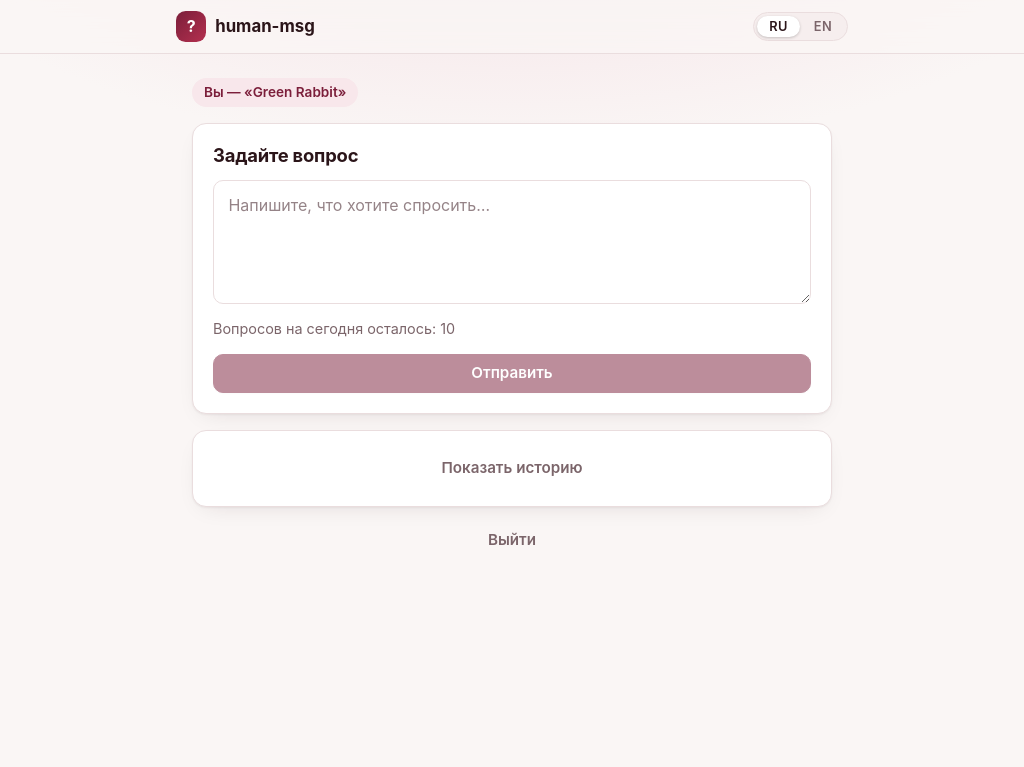
Test case: signed in › signs out and returns to the sign-in screen
Click the button "Выйти". click: (512, 540)
box: [476,522,548,557]
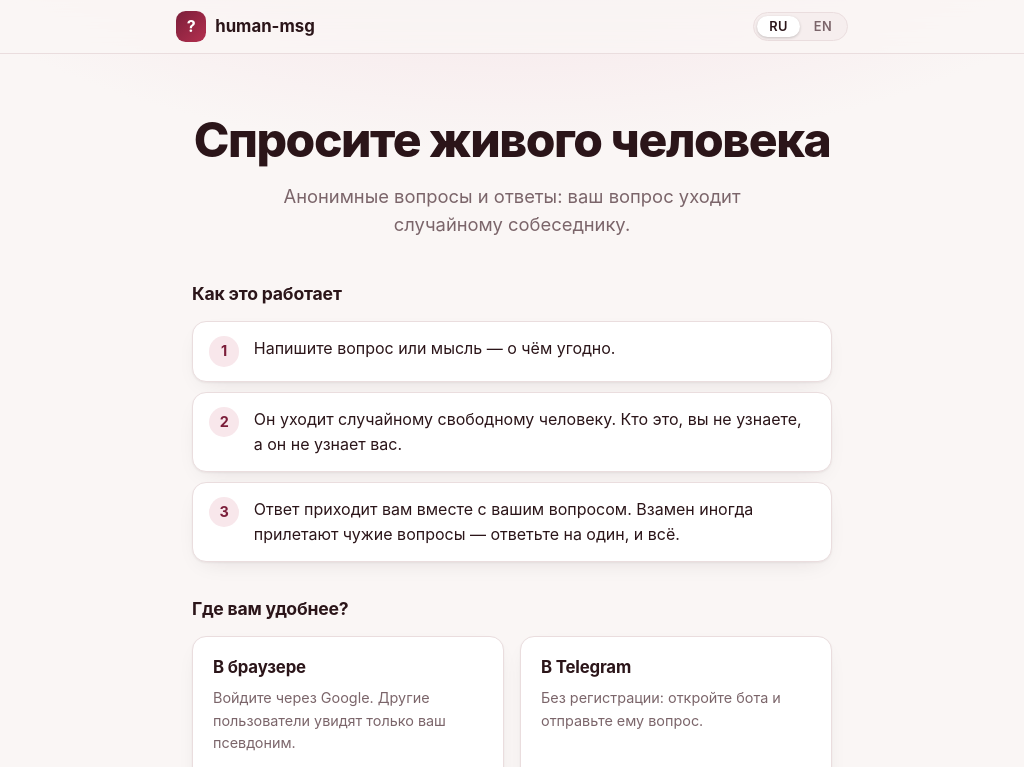
Check: the heading "Спросите живого человека" is shown, box [192,110,832,170]
Check: the text with test id "who" is gone
